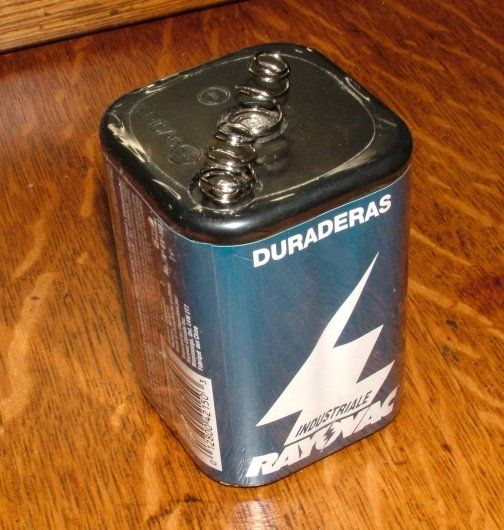9V: (90, 36, 436, 495)
